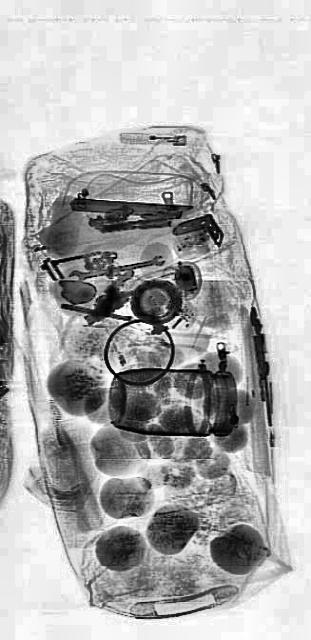Wrench: (66, 253, 162, 284)
